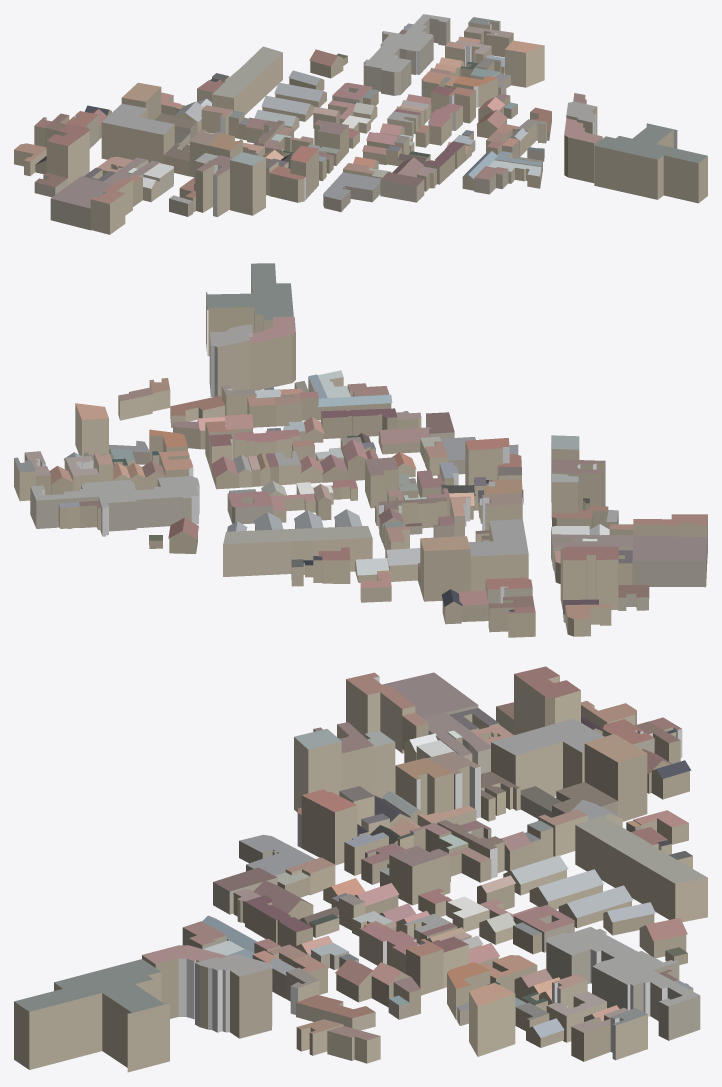
3 renders of one model, top to bottom at view 1: azimuth 30°, elevation 25°; view 2: azimuth 150°, elevation 25°; view 3: azimuth 270°, elevation 25°, orthographic. The views are drawn at different scales.
Visible parts, largest first — view 1: tuile; view 2: tuile; view 3: tuile.
Part boxes in pixels (x1,y1,x2,y2): tuile: [14, 14, 707, 234]; tuile: [14, 263, 707, 637]; tuile: [14, 666, 707, 1072].
Size of the model in its own units: 271 by 26.04 by 216.
